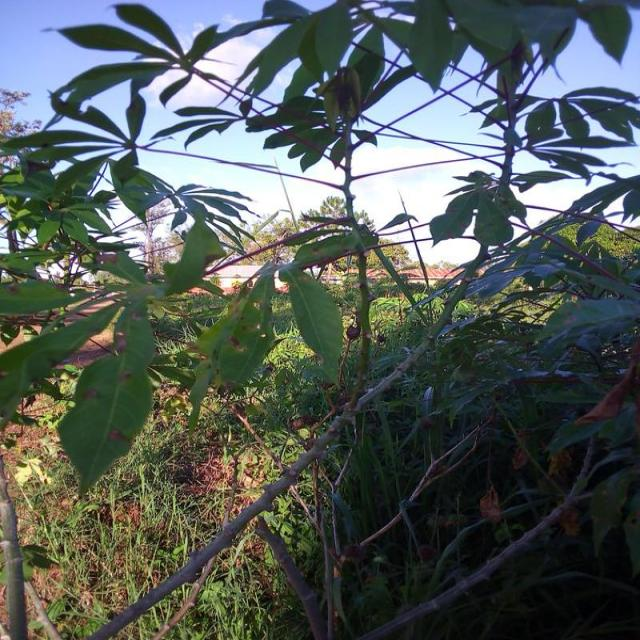cassava leaf: (280, 262, 345, 385)
